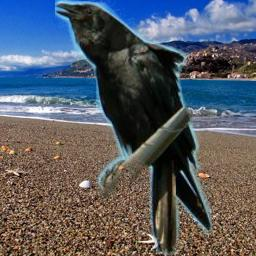Crow: (55, 0, 212, 256)
